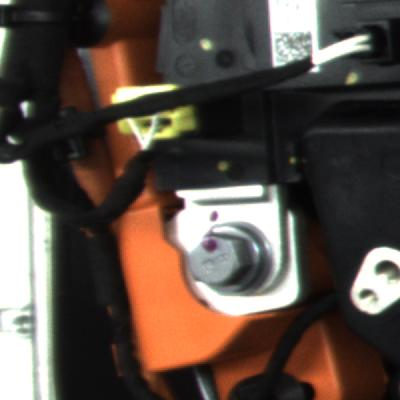nut_b: (172, 207, 290, 307)
